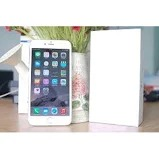iphone: (26, 39, 72, 127)
iphone6: (26, 38, 72, 126)
